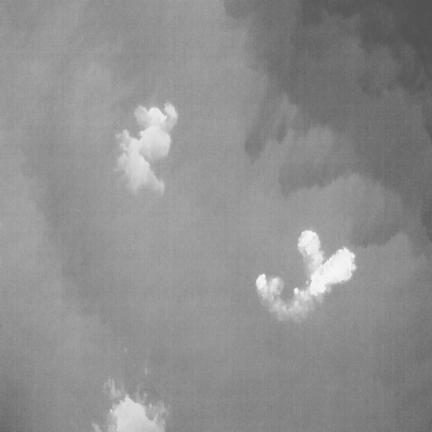flukeprints: (116, 104, 177, 192), (92, 377, 165, 431), (308, 248, 356, 294), (298, 230, 323, 272), (256, 274, 282, 302)
